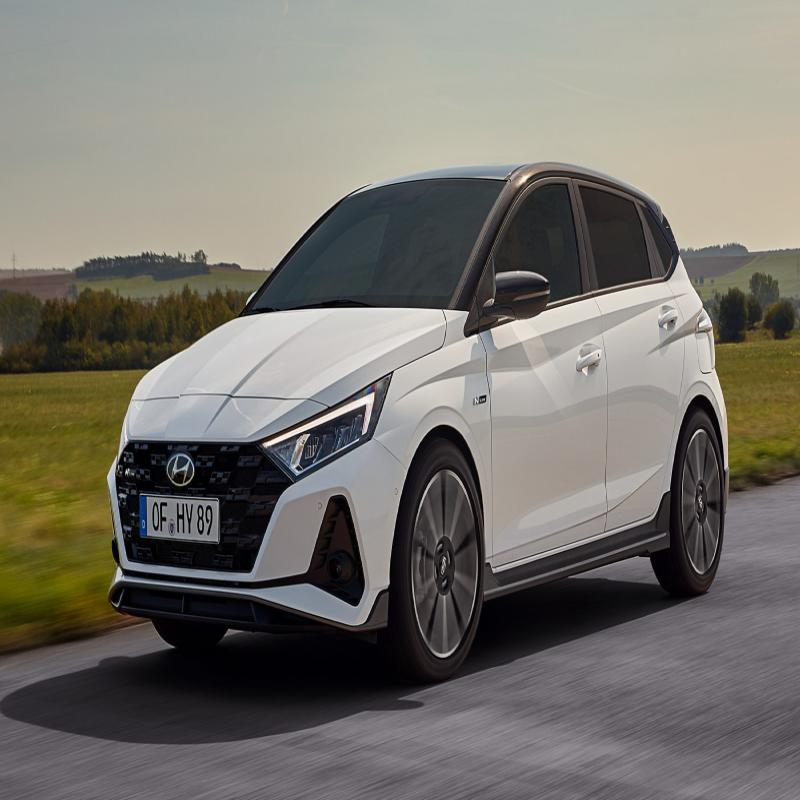car: (110, 123, 727, 656)
